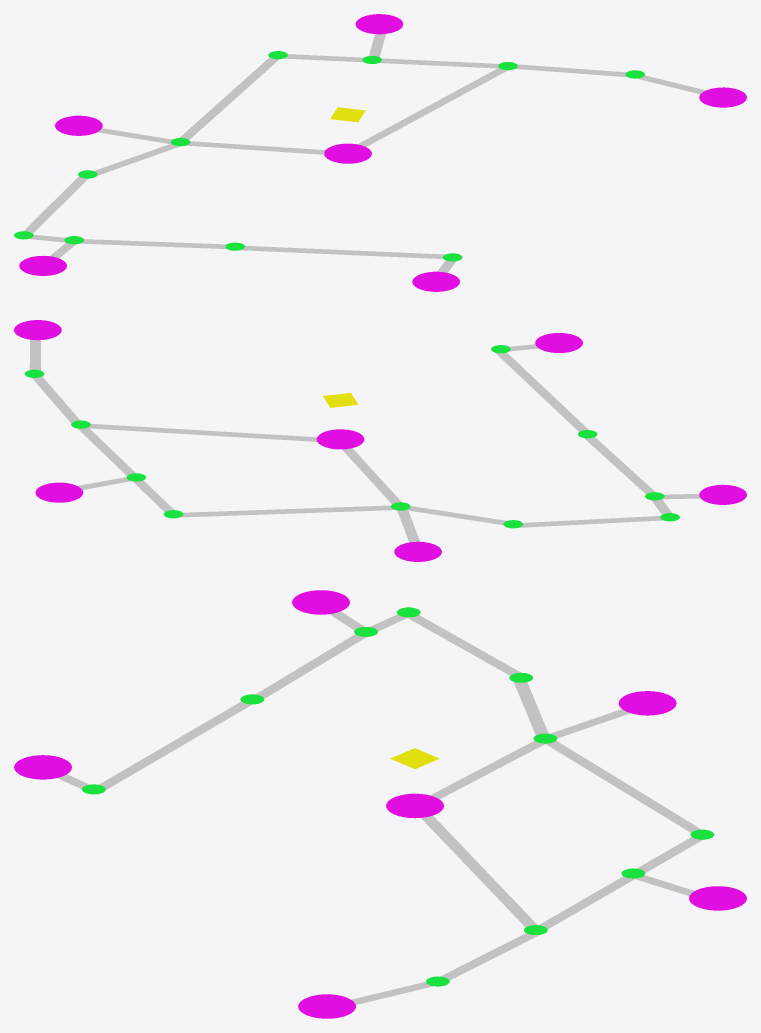
The model's file is interactive_scene.fbx.
3 renders of one model, top to bottom at view 1: azimuth 30°, elevation 25°; view 2: azimuth 150°, elevation 25°; view 3: azimuth 270°, elevation 25°, orthographic. The views are drawn at different scales.
Visible parts, largest first — view 1: na_con_13, na_con_1, na_con_11, na_con_10, dest_orange, dest_purple, dest_food, dest_blue, dest_violet, dest_yellow, na_con_3, na_con_9 (+3 smaller); view 2: na_con_13, na_con_10, na_con_1, na_con_11, dest_food, dest_purple, dest_orange, dest_blue, dest_violet, dest_yellow, na_con_6, na_con_3 (+3 smaller); view 3: na_con_13, na_con_10, na_con_1, na_con_11, dest_blue, dest_yellow, dest_orange, dest_purple, dest_violet, dest_food, na_con_3, na_con_6 (+3 smaller).
Boxes of the visible parts, box(x1,y1,x2,y2) form: na_con_13: box(358, 68, 507, 146); na_con_1: box(240, 245, 444, 258); na_con_11: box(284, 54, 499, 68); na_con_10: box(179, 57, 278, 139); dest_orange: box(699, 87, 746, 107); dest_purple: box(355, 14, 403, 34); dest_food: box(324, 143, 371, 163); dest_blue: box(55, 115, 102, 135); dest_violet: box(412, 271, 459, 291); dest_yellow: box(19, 255, 66, 275); na_con_3: box(80, 239, 226, 248); na_con_9: box(186, 141, 325, 154); na_con_13: box(88, 423, 317, 441); na_con_10: box(180, 505, 394, 517); na_con_1: box(495, 352, 588, 431); na_con_11: box(78, 427, 173, 511); dest_food: box(316, 429, 364, 449); dest_purple: box(35, 482, 83, 502); dest_orange: box(14, 320, 61, 340); dest_blue: box(394, 541, 441, 561); dest_violet: box(535, 333, 582, 352); dest_yellow: box(699, 484, 746, 504); na_con_6: box(518, 516, 662, 527); na_con_3: box(584, 437, 655, 493); na_con_13: box(421, 815, 537, 927); na_con_10: box(545, 740, 701, 832); na_con_1: box(98, 701, 252, 794); na_con_11: box(539, 837, 702, 928); dest_blue: box(618, 691, 676, 715); dest_yellow: box(292, 590, 349, 614); dest_orange: box(298, 994, 355, 1018); dest_purple: box(689, 886, 746, 910); dest_violet: box(14, 755, 71, 779); dest_food: box(386, 793, 443, 818); na_con_3: box(255, 634, 366, 698); na_con_6: box(407, 615, 520, 675).
Size of what is drawn, in the model's own units: 32.46 by 1.7 by 23.46.
